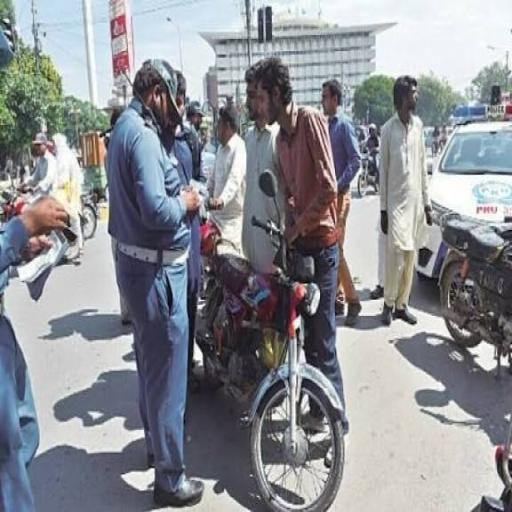no_helmet: (258, 57, 296, 121), (215, 104, 238, 144)
